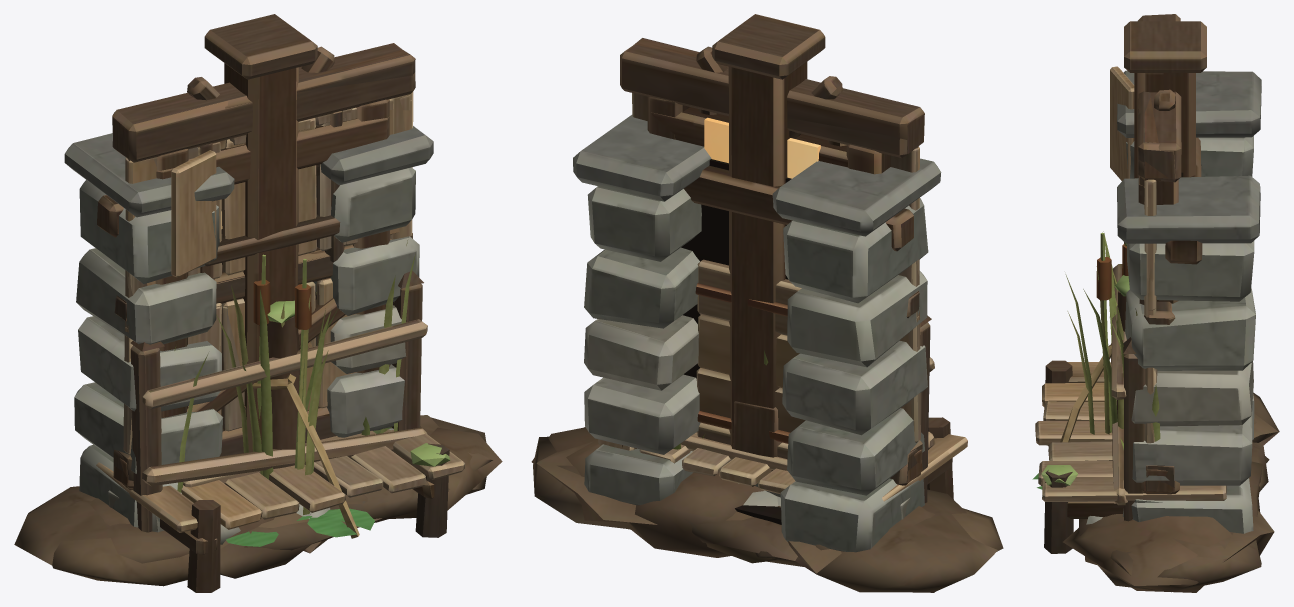
File: env-flooded-mill.hq.glb
3 renders of one model, left to right at view 1: azimuth 30°, elevation 25°; view 2: azimuth 150°, elevation 25°; view 3: azimuth 270°, elevation 25°, orthographic. The views are drawn at different scales.
Visible parts, largest first — view 1: sluice, timber-wall, timber-post, walkway, fence, timber-window, timber-doorway, reeds-bank, reeds, reeds-low, mud-bank, post (+1 smaller); view 2: sluice, timber-post, reeds-bank, timber-wall, timber-doorway, mud-bank, walkway, reeds-low, timber-window, timber-post-low, fence; view 3: sluice, walkway, mud-bank, timber-post, fence, timber-window, reeds, reeds-low, reeds-bank, timber-wall, timber-doorway, post.
Boxes of the visible parts, x1=… form: sluice: x1=64, y1=126, x2=433, y2=527; timber-wall: x1=112, y1=43, x2=415, y2=532; timber-post: x1=187, y1=14, x2=334, y2=506; walkway: x1=96, y1=429, x2=465, y2=592; fence: x1=130, y1=271, x2=427, y2=532; timber-window: x1=112, y1=50, x2=415, y2=521; timber-doorway: x1=113, y1=50, x2=414, y2=493; reeds-bank: x1=14, y1=240, x2=492, y2=565; reeds: x1=216, y1=254, x2=338, y2=528; reeds-low: x1=52, y1=417, x2=486, y2=586; mud-bank: x1=88, y1=426, x2=502, y2=578; post: x1=252, y1=300, x2=359, y2=538; sluice: x1=573, y1=115, x2=941, y2=552; timber-post: x1=696, y1=14, x2=842, y2=506; reeds-bank: x1=536, y1=350, x2=997, y2=592; timber-wall: x1=620, y1=43, x2=924, y2=485; timber-doorway: x1=632, y1=38, x2=922, y2=487; mud-bank: x1=531, y1=427, x2=934, y2=566; walkway: x1=598, y1=417, x2=967, y2=501; reeds-low: x1=533, y1=436, x2=1003, y2=592; timber-window: x1=621, y1=38, x2=922, y2=497; timber-post-low: x1=733, y1=401, x2=781, y2=506; fence: x1=920, y1=315, x2=935, y2=502; sluice: x1=1117, y1=70, x2=1261, y2=533; walkway: x1=1035, y1=360, x2=1226, y2=553; mud-bank: x1=1063, y1=420, x2=1269, y2=592; timber-post: x1=1124, y1=21, x2=1206, y2=178; fence: x1=1111, y1=242, x2=1145, y2=521; timber-window: x1=1110, y1=66, x2=1180, y2=491; reeds: x1=1065, y1=231, x2=1128, y2=434; reeds-low: x1=1079, y1=414, x2=1278, y2=592; reeds-bank: x1=1085, y1=275, x2=1279, y2=575; timber-wall: x1=1122, y1=14, x2=1181, y2=519; timber-doorway: x1=1138, y1=97, x2=1183, y2=487; post: x1=1060, y1=275, x2=1129, y2=442.
Size of the model in its own units: 1.68 by 1.8 by 0.8357.
2 materials, 2 textured.
